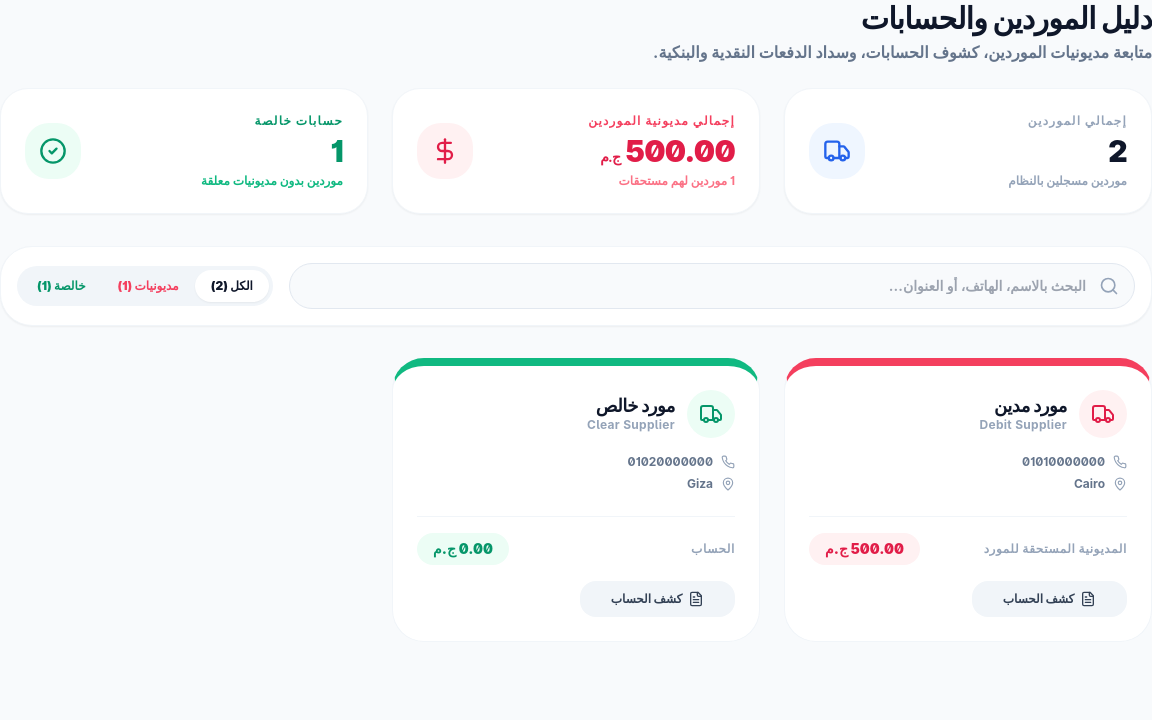
it: coverage-gap: supplier management UI permissions and interactions › keeps delegated supplier viewers read-only while preserving search, filters, and statement access
Expected: the heading "مورد مدين" is shown, [994,395,1067,416]
Type "Clear" into the field with placeholder "البحث بالاسم، الهاتف، أو العنوان..." at (712, 286), box [289,263,1135,309]
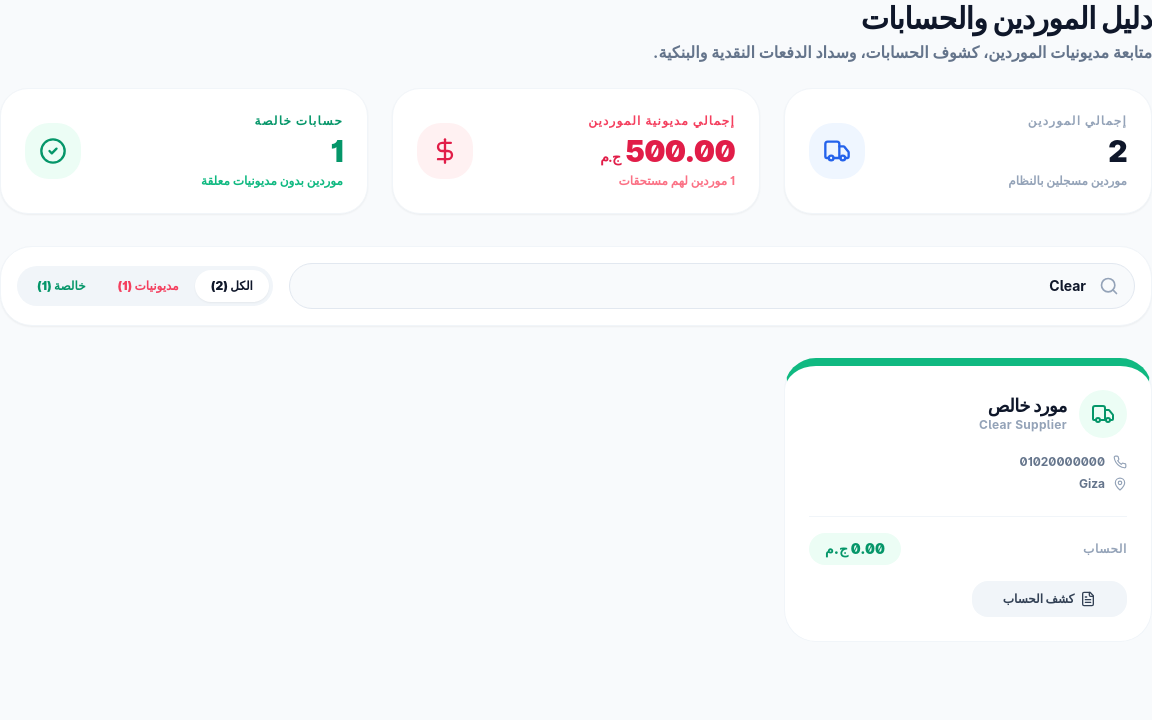
Expected: the heading "مورد خالص" is shown, [979,395,1067,417]
Expected: the heading "مورد مدين" is gone
Clear the field with placeholder "البحث بالاسم، الهاتف، أو العنوان..." at (712, 286), box [289,263,1135,309]
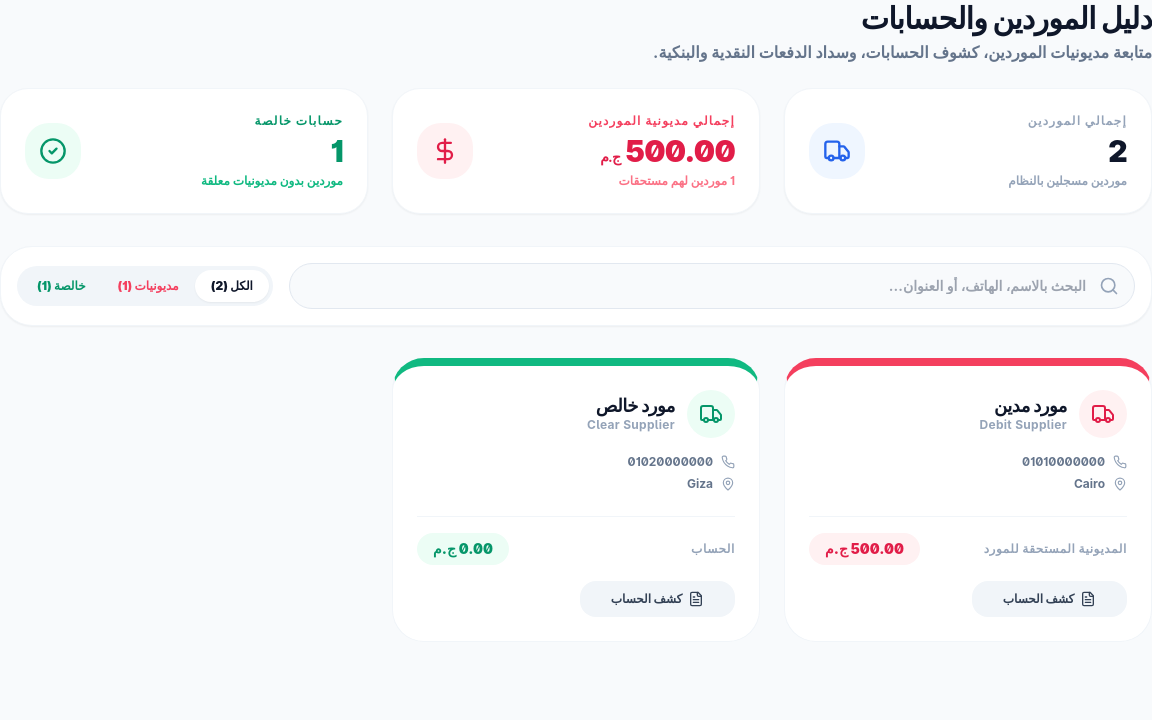
Click the button "مديونيات (1)" at (148, 286), box [102,270,195,302]
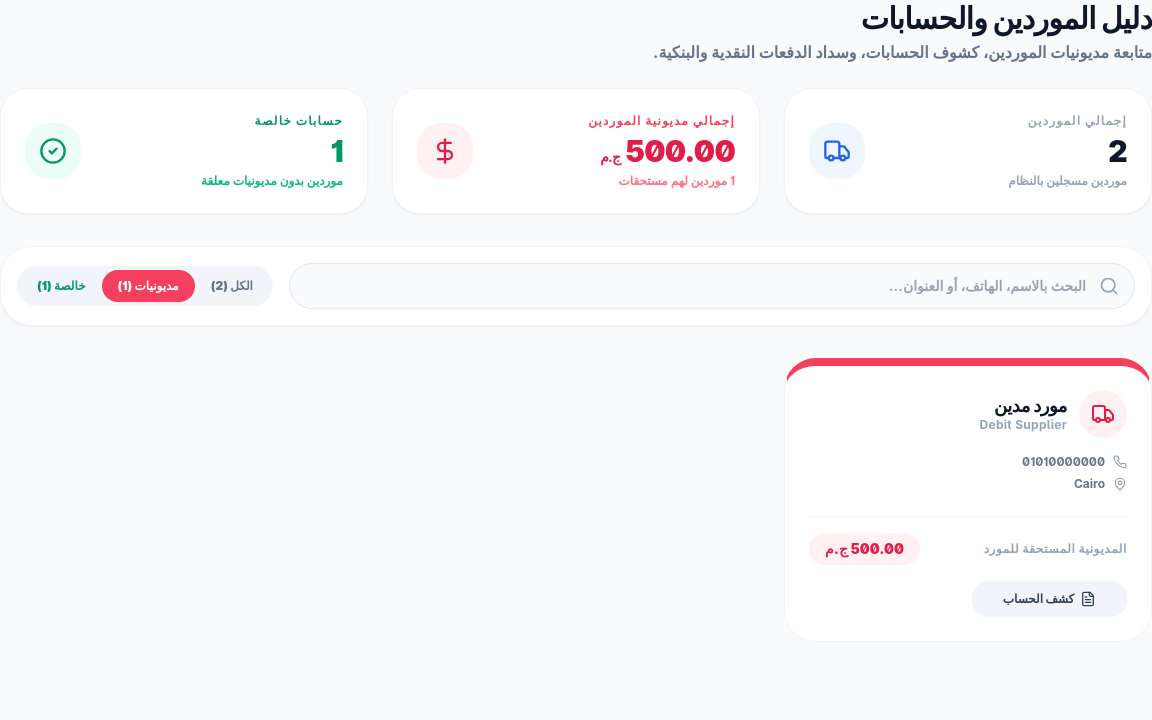
Expected: the heading "مورد مدين" is shown, [994,395,1067,416]
Expected: the heading "مورد خالص" is gone
Click the button "كشف الحساب" at (1050, 599), box [972,581,1127,617]
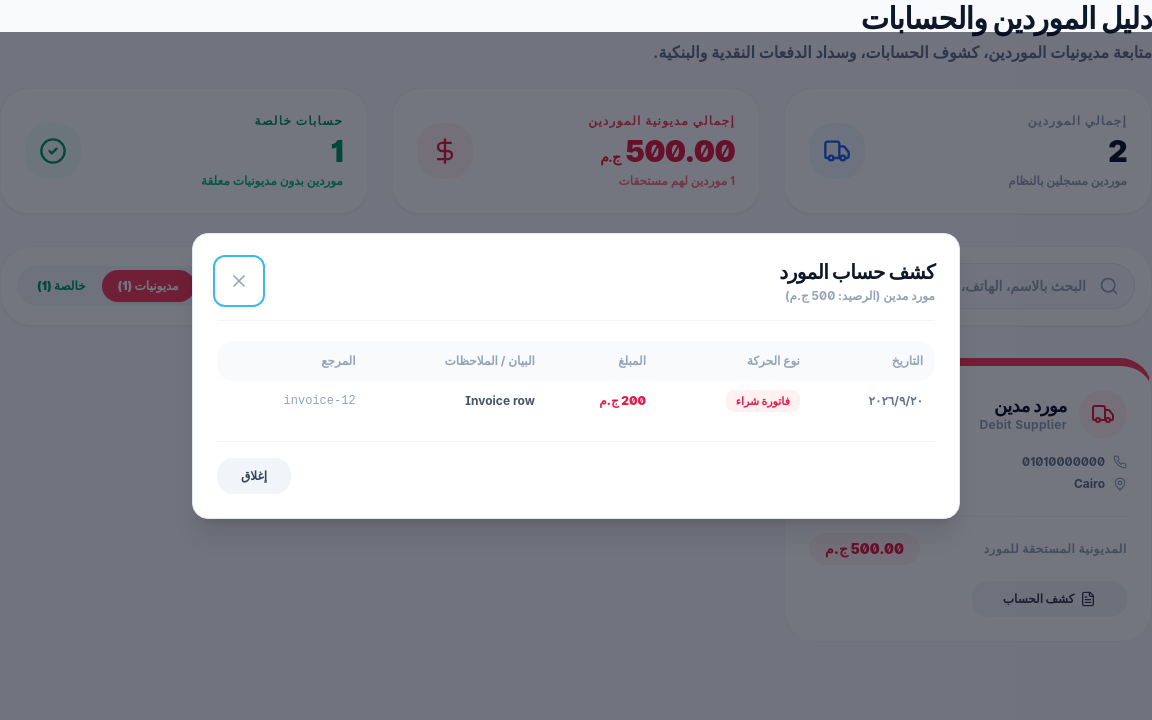
Expected: the text "Invoice row" is shown, [368,381,547,421]
